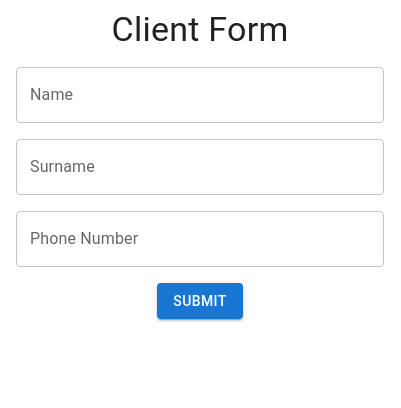
Test: ClientForm › shows validation messages when fields are empty and form is submitted
Click the button "Submit" at (200, 301), box x1=157 y1=283 x2=243 y2=320
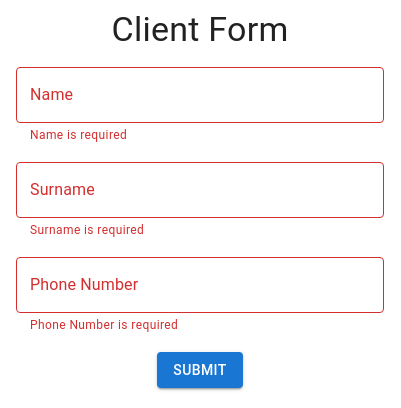
Result: the text "Name is required" is shown at x1=30 y1=128 x2=127 y2=142
Result: the text "Surname is required" is shown at x1=30 y1=223 x2=144 y2=237
Result: the text "Phone Number is required" is shown at x1=30 y1=318 x2=178 y2=332
